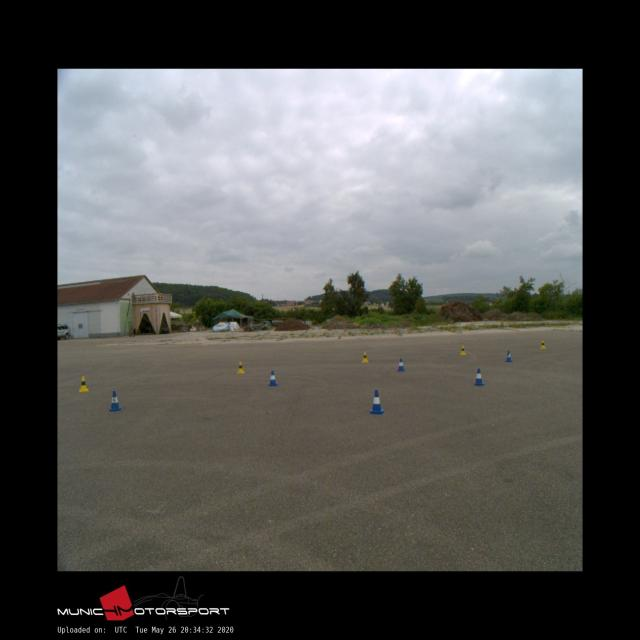blue_cone: (370, 390, 384, 413), (108, 391, 121, 409), (474, 368, 484, 385), (268, 370, 278, 385), (396, 358, 404, 371), (505, 351, 512, 362)
yellow_cone: (78, 377, 89, 391), (237, 360, 244, 372), (362, 350, 368, 362), (460, 345, 466, 355), (540, 340, 546, 349)
